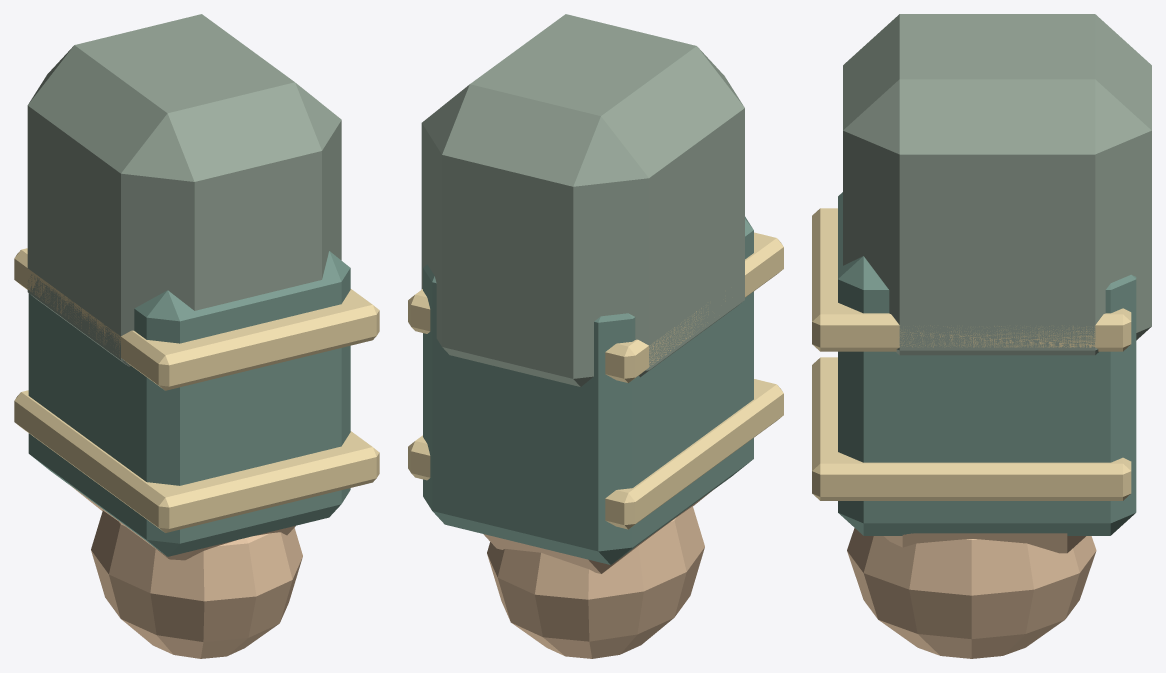
The model's file is Dragon_Peasant_RightArm.fbx.
3 views of the same model, side by side, from view 1: azimuth 30°, elevation 25°; view 2: azimuth 150°, elevation 25°; view 3: azimuth 270°, elevation 25° (orthographic). The views are drawn at different scales.
Parts seen in each view (by area): view 1: Dragon_Peasant_RightArm; view 2: Dragon_Peasant_RightArm; view 3: Dragon_Peasant_RightArm.
Part boxes in pixels (left/top/right/bottom): Dragon_Peasant_RightArm: left=14, top=14, right=379, bottom=658; Dragon_Peasant_RightArm: left=408, top=14, right=783, bottom=658; Dragon_Peasant_RightArm: left=812, top=14, right=1151, bottom=658.
Bounding box in the file's own units: 26 × 64.62 × 33.
